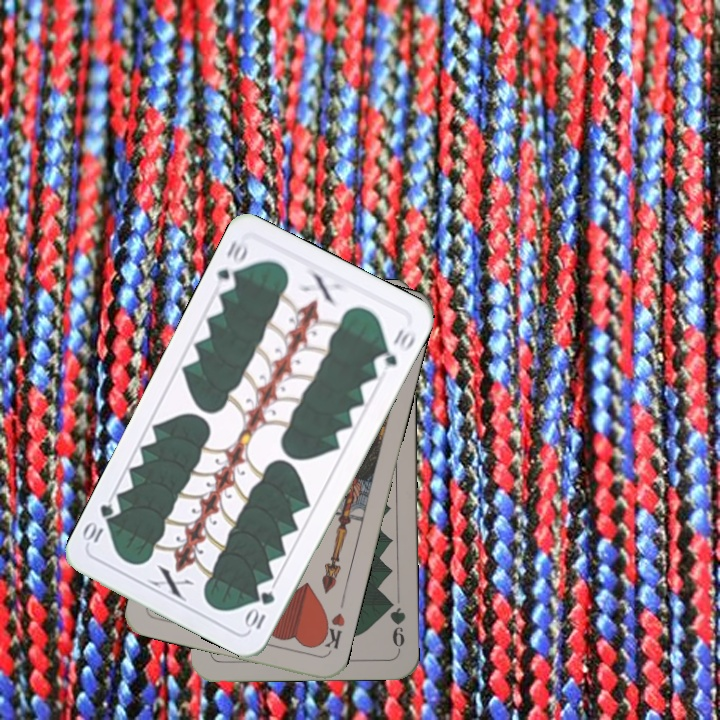G10: (211, 235, 250, 295), (242, 586, 278, 633)
G9: (383, 594, 408, 653)
HK: (315, 609, 348, 652)
